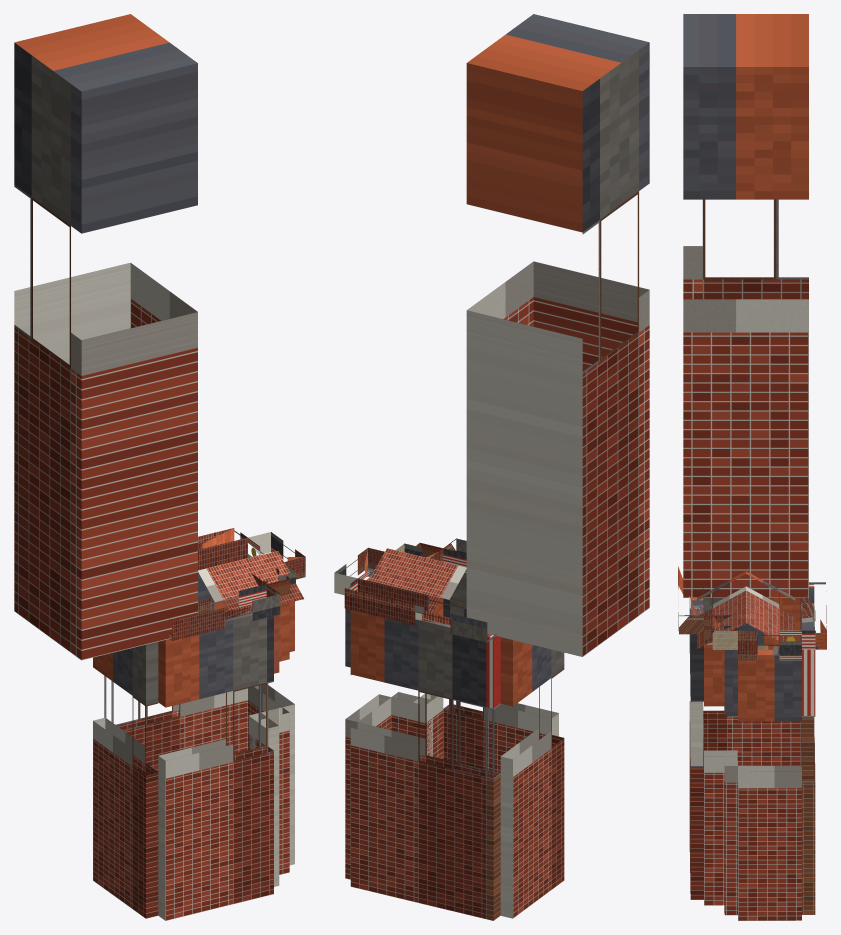
3 renders of one model, left to right at view 1: azimuth 30°, elevation 25°; view 2: azimuth 150°, elevation 25°; view 3: azimuth 270°, elevation 25°, orthographic. The views are drawn at different scales.
Visible parts, largest first — view 1: 1106973763__chimney_0_xb, 1106973763__wall_1_xb, 1106973763__wall_2_xb, 1106973763__wall_3_xb, 1106973763_roof_-1_xb, 1106973763__wall_5_xb, 1106973763__cornice_1, 1106973763__wall_4_xb, 1106973763__wall_0_xb, 1106973763__cornice_3, 1106973763__cornice_4; view 2: 1106973763__chimney_0_xb, 1106973763__wall_3_xb, 1106973763__wall_2_xb, 1106973763__wall_1_xb, 1106973763__cornice_3, 1106973763_roof_1_xb, 1106973763__wall_4_xb, 1106973763__wall_0_xb, 1106973763__wall_5_xb, 1106973763__cornice_4; view 3: 1106973763__chimney_0_xb, 1106973763__wall_4_xb, 1106973763__wall_2_xb, 1106973763__wall_0_xb, 1106973763__wall_3_xb, 1106973763__wall_1_xb, 1106973763__wall_5_xb, 1106973763_roof_1_xb, 1106973763_roof_-1_xb, 1106973763__cornice_4, 1106973763__cornice_3, 1106973763__cornice_1 (+1 smaller).
Boxes of the visible parts, x1,y1,x2,y2 form: 1106973763__chimney_0_xb: (14, 14, 197, 660); 1106973763__wall_1_xb: (158, 612, 273, 920); 1106973763__wall_2_xb: (93, 642, 158, 918); 1106973763__wall_3_xb: (104, 558, 247, 771); 1106973763_roof_-1_xb: (198, 551, 304, 614); 1106973763__wall_5_xb: (248, 602, 289, 874); 1106973763__cornice_1: (169, 584, 280, 640); 1106973763__wall_4_xb: (248, 555, 294, 865); 1106973763__wall_0_xb: (248, 614, 279, 886); 1106973763__cornice_3: (198, 528, 247, 570); 1106973763__cornice_4: (248, 532, 305, 579); 1106973763__chimney_0_xb: (466, 14, 649, 656); 1106973763__wall_3_xb: (350, 610, 500, 920); 1106973763__wall_2_xb: (500, 637, 564, 918); 1106973763__wall_1_xb: (443, 573, 558, 772); 1106973763__cornice_3: (344, 578, 496, 642); 1106973763_roof_1_xb: (369, 548, 466, 617); 1106973763__wall_4_xb: (345, 576, 391, 879); 1106973763__wall_0_xb: (413, 598, 443, 759); 1106973763__wall_5_xb: (391, 692, 432, 756); 1106973763__cornice_4: (334, 547, 384, 595); 1106973763__chimney_0_xb: (683, 14, 808, 597); 1106973763__wall_4_xb: (738, 649, 801, 920); 1106973763__wall_2_xb: (703, 598, 800, 765); 1106973763__wall_0_xb: (704, 641, 737, 905); 1106973763__wall_3_xb: (800, 584, 815, 914); 1106973763__wall_1_xb: (689, 598, 703, 899); 1106973763__wall_5_xb: (724, 650, 737, 915); 1106973763_roof_1_xb: (746, 571, 795, 641); 1106973763_roof_-1_xb: (697, 571, 745, 649); 1106973763__cornice_4: (738, 630, 801, 660); 1106973763__cornice_3: (801, 582, 826, 649); 1106973763__cornice_1: (678, 566, 703, 634).
Bounding box in the file's own units: 0.3265 × 1.05 × 0.1778.
1 material, 1 textured.
